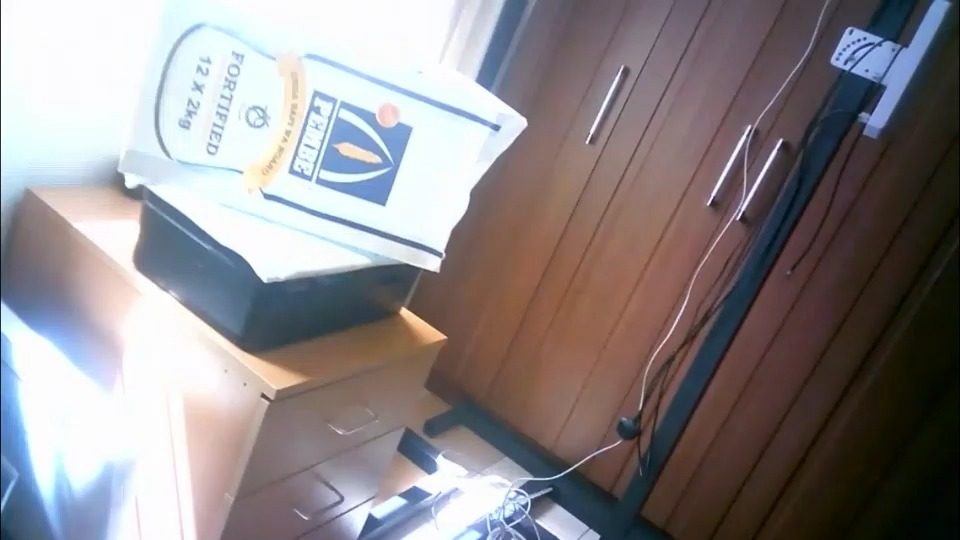wheat_flour_blue_label: (112, 0, 525, 272)
